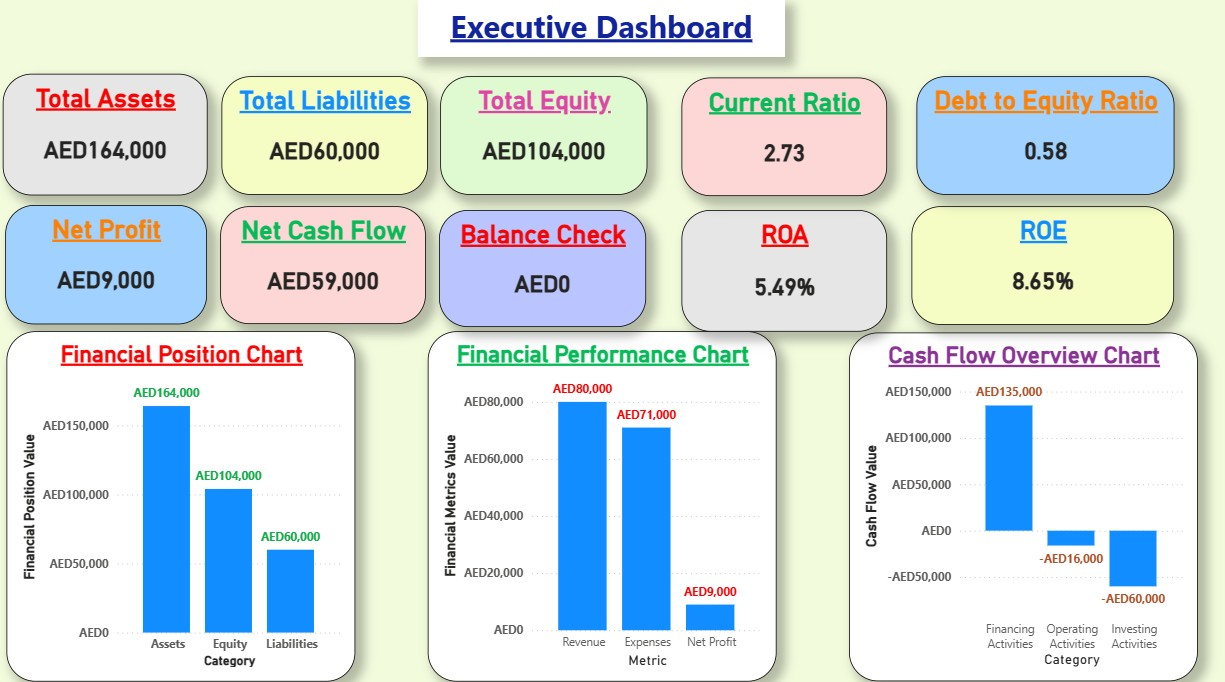

The dashboard page shown, as its layout file describes it:
{"tool":"powerbi","page":{"name":"Executive Dashboard","canvas":[1280,720],"ordinal":0},"visuals":[{"type":"textbox","box":[435,0,381.5,59],"z":0},{"type":"card","title":"Total Assets","fields":{"Values":["Measures 1.Total Assets"]},"box":[4.4,77,212.6,126.1],"z":1000},{"type":"card","title":"Total Liabilities","fields":{"Values":["Measures 1.Total Liabilities"]},"box":[230.5,79.2,214.1,123.5],"z":2000},{"type":"card","title":"Total Equity","fields":{"Values":["Measures 1.Total Equity"]},"box":[457.9,79.2,215.4,123.5],"z":3000},{"type":"card","title":"Net Profit","fields":{"Values":["Measures 1.Net Profit"]},"box":[6.9,213.4,209.3,123.9],"z":4000},{"type":"card","title":"Net Cash Flow","fields":{"Values":["Measures 1.Net Cash Flow"]},"box":[229.9,214.8,213.4,122.5],"z":5000},{"type":"clusteredColumnChart","title":"Financial Position Chart","fields":{"Category":["Financial Position.Category"],"Y":["Measures 1.Financial Position Value"]},"box":[7.6,344.5,362.8,364.3],"z":6000},{"type":"clusteredColumnChart","title":"Financial Performance Chart","fields":{"Category":["Financial Metrics.Metric"],"Y":["Measures 1.Financial Metrics Value"]},"box":[445.1,344.5,362.8,364.3],"z":7000},{"type":"clusteredColumnChart","title":"Cash Flow Overview Chart","fields":{"Category":["Cash Flow Category.Category"],"Y":["Measures 1.Cash Flow Value"]},"box":[882.5,346,362.8,362.8],"z":8000},{"type":"card","title":"ROA","fields":{"Values":["Measures 1.ROA"]},"box":[708.7,218,213.4,126.5],"z":9000},{"type":"card","title":"Current Ratio","fields":{"Values":["Measures 1.Current Ratio"]},"box":[708.7,80.8,213.4,123.5],"z":10000},{"type":"card","title":"ROE","fields":{"Values":["Measures 1.ROE"]},"box":[948,214.9,272.8,123.5],"z":11000},{"type":"card","title":"Debt to Equity Ratio","fields":{"Values":["Measures 1.Debt to Equity Ratio"]},"box":[952.6,79.3,268.3,123.5],"z":12000},{"type":"card","title":"Balance Check","fields":{"Values":["Measures 1.Balance Check"]},"box":[457.3,218,214.9,121.9],"z":13000}]}

Visuals, with their boxes in screenshot pixels (x1, y1, x2, y2), scaled from the page's 1280x720 canvas onto the 1225x682 screenshot:
textbox: Rect(416, 0, 781, 56)
"Total Assets" card: Rect(4, 73, 208, 192)
"Total Liabilities" card: Rect(221, 75, 425, 192)
"Total Equity" card: Rect(438, 75, 644, 192)
"Net Profit" card: Rect(7, 202, 207, 319)
"Net Cash Flow" card: Rect(220, 203, 424, 319)
"Financial Position Chart" clusteredColumnChart: Rect(7, 326, 354, 671)
"Financial Performance Chart" clusteredColumnChart: Rect(426, 326, 773, 671)
"Cash Flow Overview Chart" clusteredColumnChart: Rect(845, 328, 1192, 671)
"ROA" card: Rect(678, 206, 882, 326)
"Current Ratio" card: Rect(678, 77, 882, 194)
"ROE" card: Rect(907, 204, 1168, 321)
"Debt to Equity Ratio" card: Rect(912, 75, 1168, 192)
"Balance Check" card: Rect(438, 206, 643, 322)
